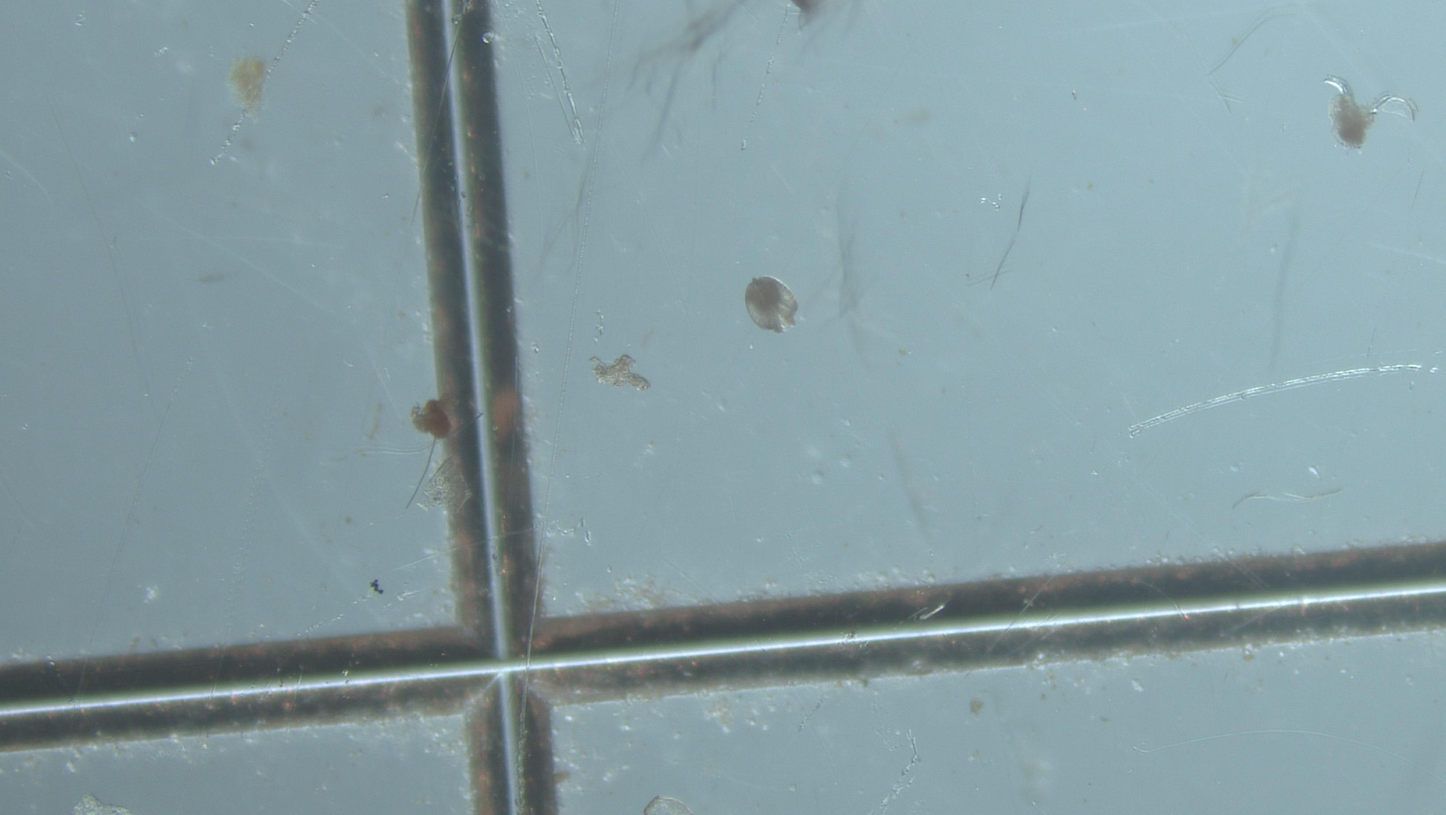live: (744, 277, 798, 333)
